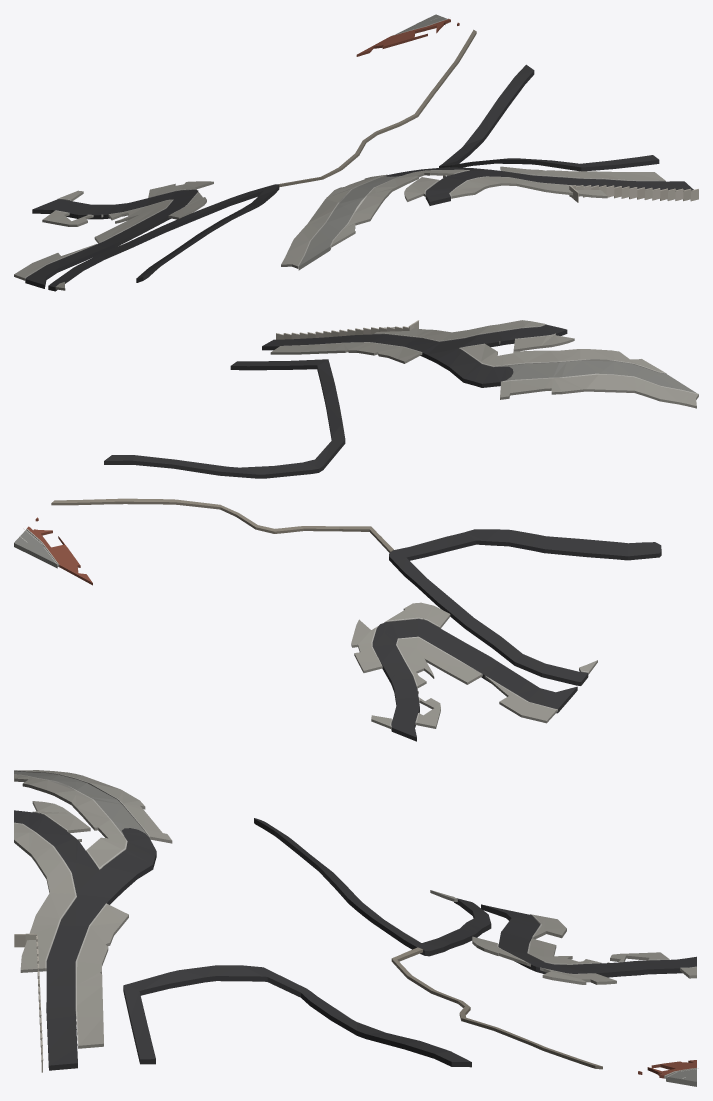
3 renders of one model, top to bottom at view 1: azimuth 30°, elevation 25°; view 2: azimuth 150°, elevation 25°; view 3: azimuth 270°, elevation 25°, orthographic. The views are drawn at different scales.
Bounding box in the file's own units: 148 × 54.93 × 146.
